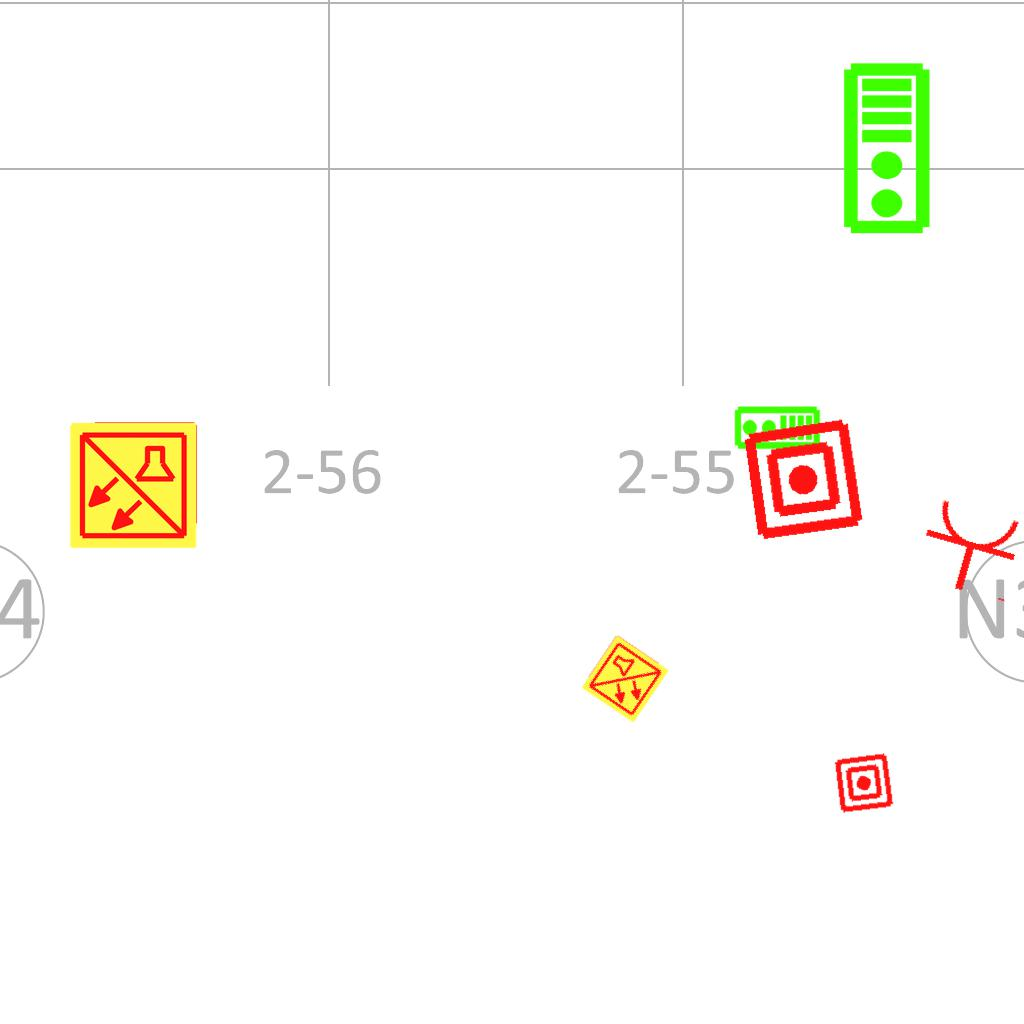Gegensprechanlage_mit_Video: (841, 61, 936, 237), (733, 405, 821, 452)
NAM-Nichtautomatischer_Melder: (739, 415, 868, 544), (832, 751, 896, 815)
OKW_Multisensormelder_(Kombination_optischer_Rauch-Kahlenmonoxid_Waerme-Melder): (67, 419, 199, 551), (579, 633, 671, 725)
Schukosteckdose_einfach: (911, 494, 1024, 606)
